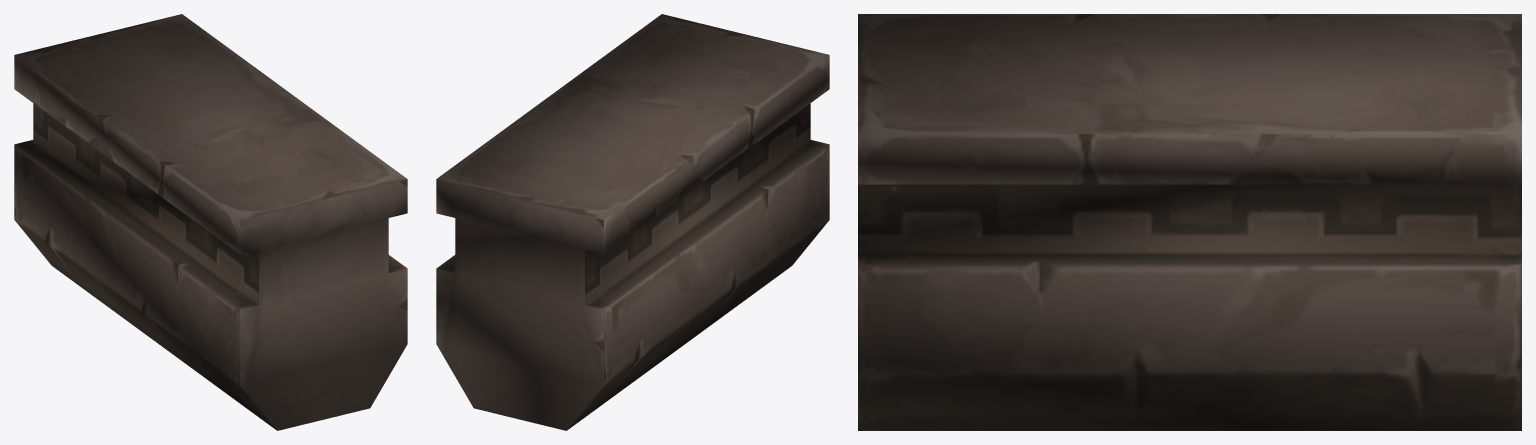
The model's file is sn_longmai_hulan_001.FBX.
3 views of the same model, side by side, from view 1: azimuth 30°, elevation 25°; view 2: azimuth 150°, elevation 25°; view 3: azimuth 270°, elevation 25° (orthographic). The views are drawn at different scales.
Parts seen in each view (by area): view 1: sn_longmai_hulan_001; view 2: sn_longmai_hulan_001; view 3: sn_longmai_hulan_001.
Part boxes in pixels (x1,y1,x2,y2): sn_longmai_hulan_001: [14, 14, 407, 430]; sn_longmai_hulan_001: [436, 14, 829, 430]; sn_longmai_hulan_001: [858, 14, 1521, 430].
Bounding box in the file's own units: 194 × 243 × 452.
